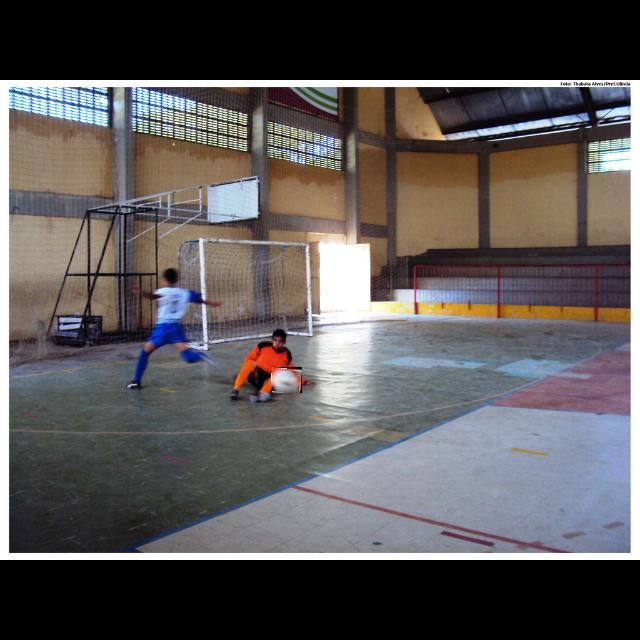Football: (272, 367, 302, 393)
